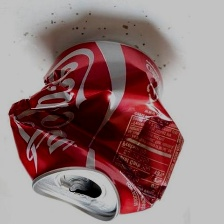can: (6, 33, 195, 221)
